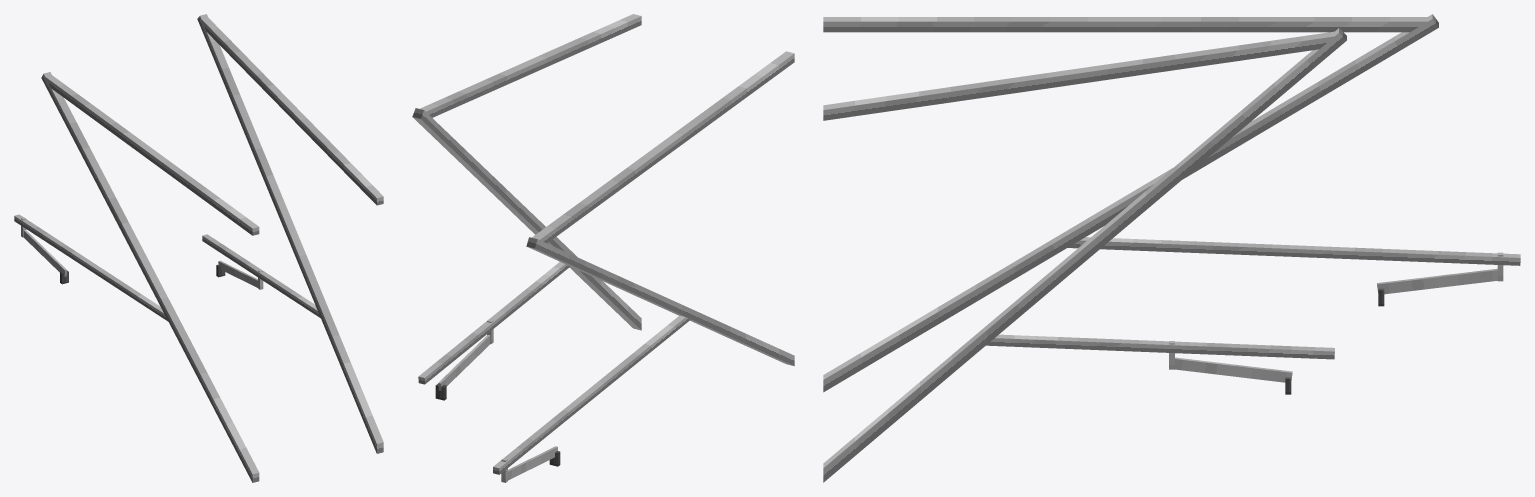
File: cantilever_center_8px.obj
3 renders of one model, left to right at view 1: azimuth 30°, elevation 25°; view 2: azimuth 150°, elevation 25°; view 3: azimuth 270°, elevation 25°, orthographic. The views are drawn at different scales.
Parts seen in each view (by area): view 1: 6d61cc00-b1be-4c64-b506-0e5862ca9c6b, 177e156b-f730-43f5-baa5-25373ed6c563, d06c69c4-31fb-4e80-974d-956fa7492ad3, b9212bf1-90ef-46c3-bce6-069e8e862865, c6822877-569e-4689-afe7-6189395569f7, d4e48038-2477-4ddd-ab93-c9fc02c2373e, 8c48f69d-b0ee-4159-b331-4d6937c6b6dc; view 2: d06c69c4-31fb-4e80-974d-956fa7492ad3, 6d61cc00-b1be-4c64-b506-0e5862ca9c6b, 177e156b-f730-43f5-baa5-25373ed6c563, b9212bf1-90ef-46c3-bce6-069e8e862865, c6822877-569e-4689-afe7-6189395569f7, d4e48038-2477-4ddd-ab93-c9fc02c2373e, cd0c48ec-c223-49c4-a6a1-794c499618a2, 8c48f69d-b0ee-4159-b331-4d6937c6b6dc; view 3: 6d61cc00-b1be-4c64-b506-0e5862ca9c6b, 177e156b-f730-43f5-baa5-25373ed6c563, d06c69c4-31fb-4e80-974d-956fa7492ad3, b9212bf1-90ef-46c3-bce6-069e8e862865, c6822877-569e-4689-afe7-6189395569f7, d4e48038-2477-4ddd-ab93-c9fc02c2373e, 8c48f69d-b0ee-4159-b331-4d6937c6b6dc, cd0c48ec-c223-49c4-a6a1-794c499618a2.
Boxes of the visible parts, x1,y1,x2,y2 form: 6d61cc00-b1be-4c64-b506-0e5862ca9c6b: (197,14,383,453); 177e156b-f730-43f5-baa5-25373ed6c563: (41,72,259,482); d06c69c4-31fb-4e80-974d-956fa7492ad3: (45,75,259,235); b9212bf1-90ef-46c3-bce6-069e8e862865: (201,17,383,205); c6822877-569e-4689-afe7-6189395569f7: (14,214,168,321); d4e48038-2477-4ddd-ab93-c9fc02c2373e: (202,234,320,317); 8c48f69d-b0ee-4159-b331-4d6937c6b6dc: (23,230,66,276); d06c69c4-31fb-4e80-974d-956fa7492ad3: (532,51,794,243); 6d61cc00-b1be-4c64-b506-0e5862ca9c6b: (412,108,641,330); 177e156b-f730-43f5-baa5-25373ed6c563: (526,237,794,366); b9212bf1-90ef-46c3-bce6-069e8e862865: (420,14,641,117); c6822877-569e-4689-afe7-6189395569f7: (493,315,690,474); d4e48038-2477-4ddd-ab93-c9fc02c2373e: (418,262,569,384); cd0c48ec-c223-49c4-a6a1-794c499618a2: (438,335,490,390); 8c48f69d-b0ee-4159-b331-4d6937c6b6dc: (508,446,557,480); 6d61cc00-b1be-4c64-b506-0e5862ca9c6b: (823,28,1346,482); 177e156b-f730-43f5-baa5-25373ed6c563: (823,14,1438,392); d06c69c4-31fb-4e80-974d-956fa7492ad3: (823,17,1427,32); b9212bf1-90ef-46c3-bce6-069e8e862865: (823,31,1334,120); c6822877-569e-4689-afe7-6189395569f7: (1068,237,1520,265); d4e48038-2477-4ddd-ab93-c9fc02c2373e: (986,334,1334,359); 8c48f69d-b0ee-4159-b331-4d6937c6b6dc: (1377,268,1497,294); cd0c48ec-c223-49c4-a6a1-794c499618a2: (1175,357,1292,382).
Bounding box in the file's own units: 1.19 × 2.67 × 3.75.
